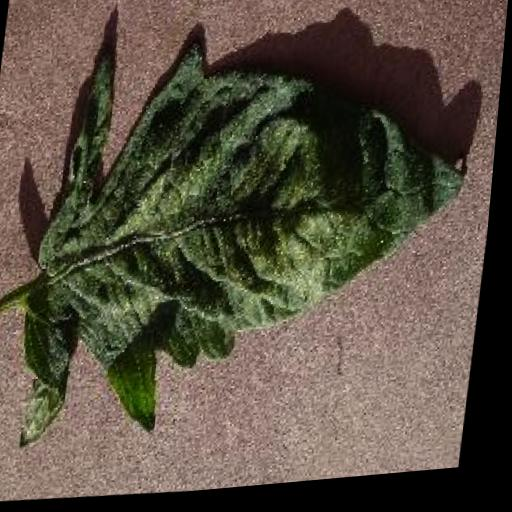Spider Mites: (16, 23, 491, 459)
